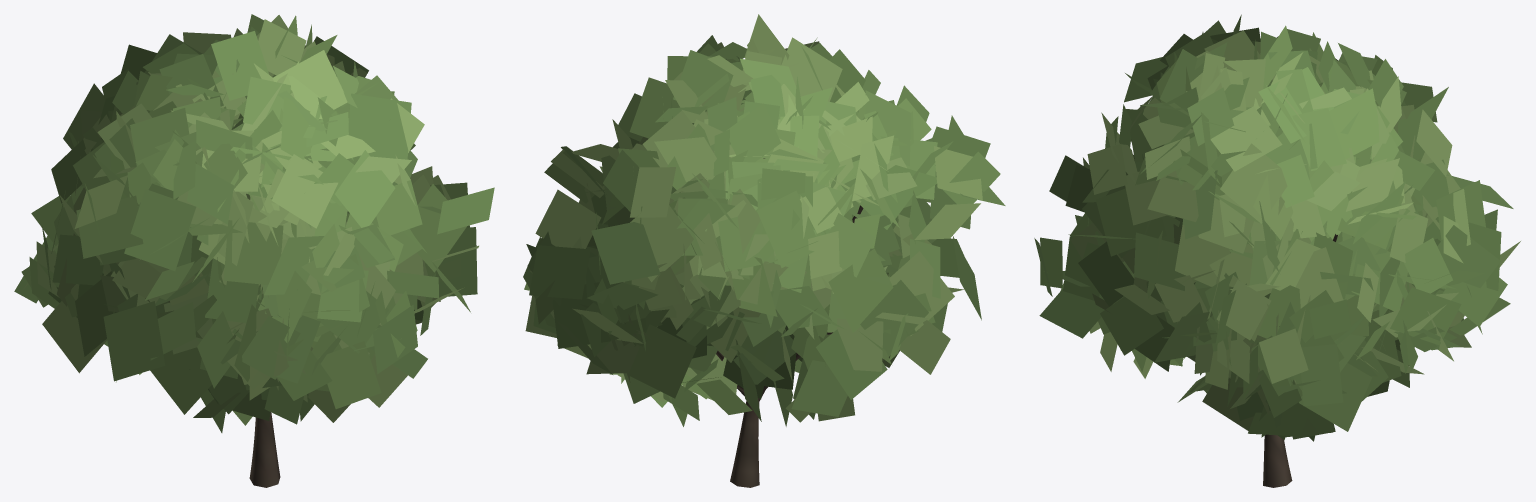
Rendered from linden_0.glb.
3 views of the same model, side by side, from view 1: azimuth 30°, elevation 25°; view 2: azimuth 150°, elevation 25°; view 3: azimuth 270°, elevation 25° (orthographic). The views are drawn at different scales.
Parts seen in each view (by area): view 1: linden_0; view 2: linden_0; view 3: linden_0.
Boxes of the visible parts, x1,y1,x2,y2 form: linden_0: (14,14,494,487); linden_0: (523,14,1005,487); linden_0: (1034,14,1520,487).
Bounding box in the file's own units: 0.9701 × 1 × 1.
